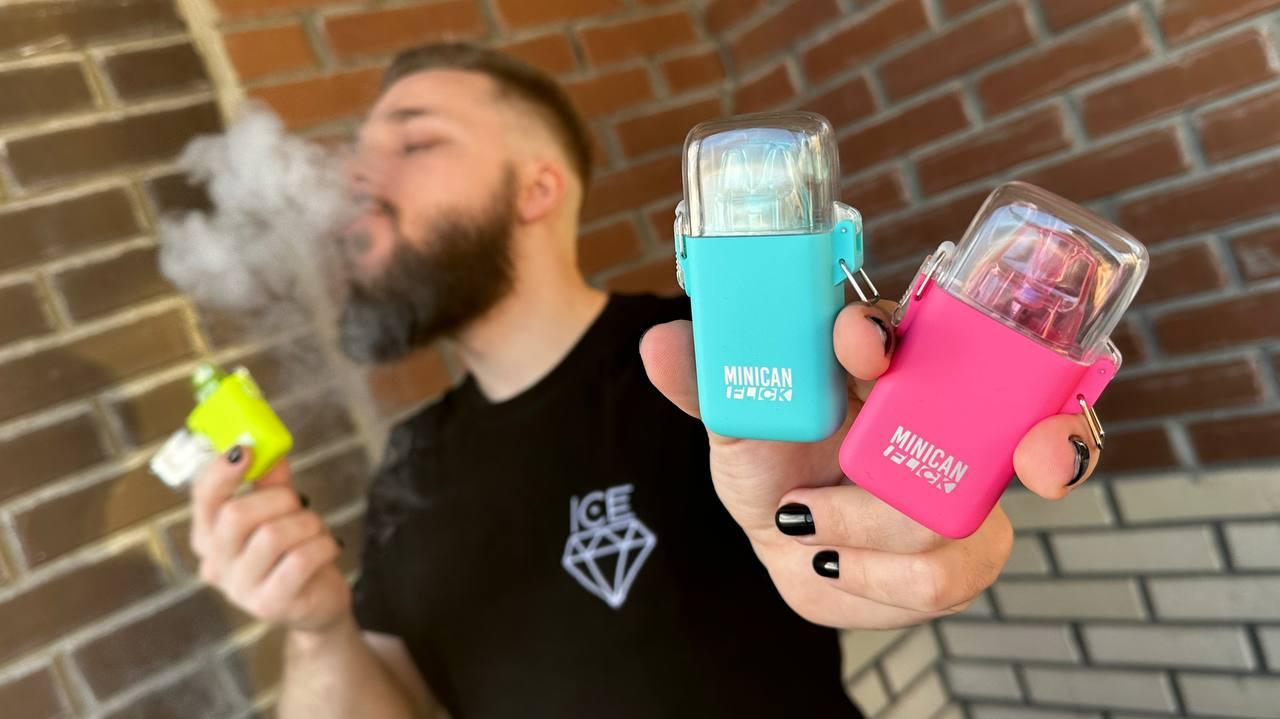Vape: (839, 182, 1146, 538), (676, 112, 867, 442)
